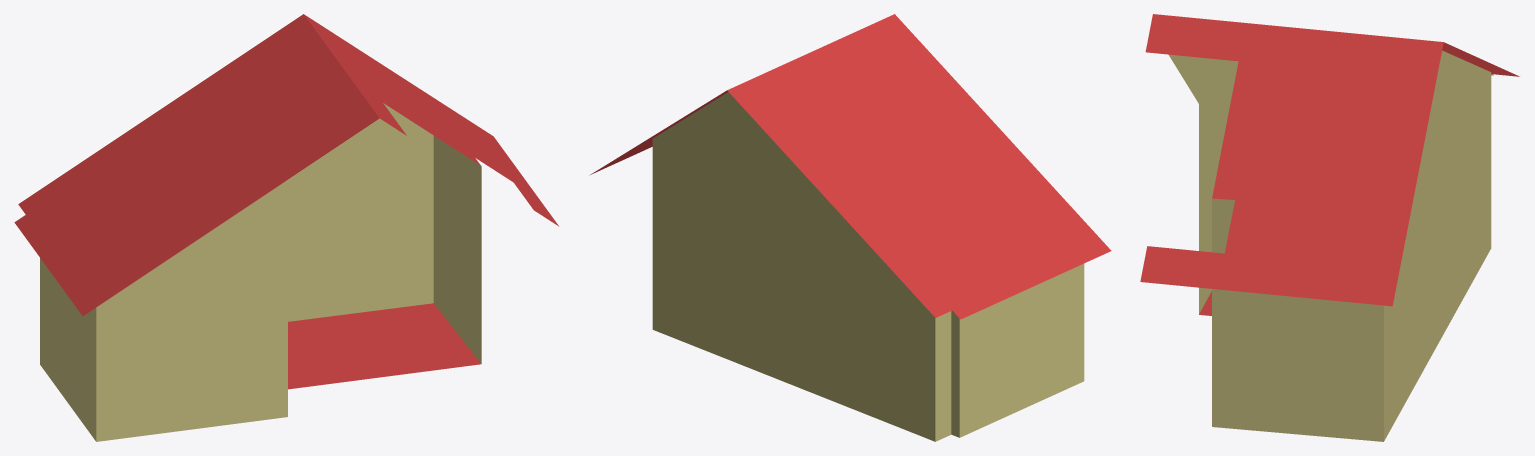
3 renders of one model, left to right at view 1: azimuth 30°, elevation 25°; view 2: azimuth 150°, elevation 25°; view 3: azimuth 270°, elevation 25°, orthographic. The views are drawn at different scales.
Bounding box in the file's own units: 27.2 × 16.17 × 16.01.
